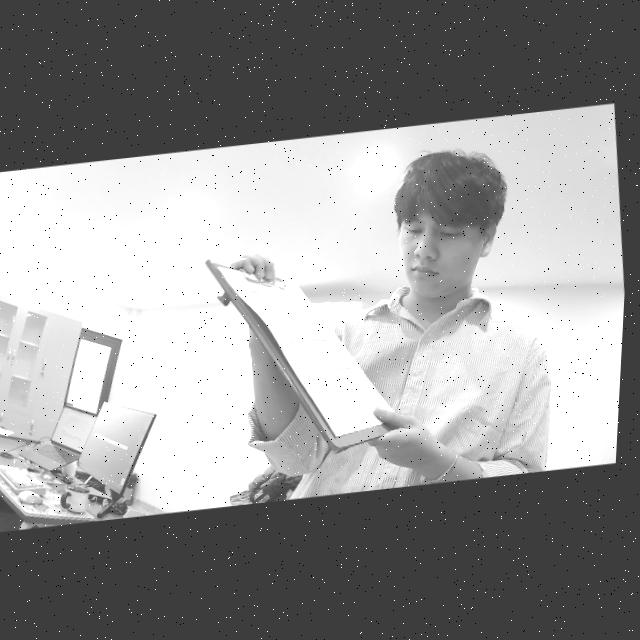document: (218, 267, 398, 437)
face: (396, 150, 499, 305)
